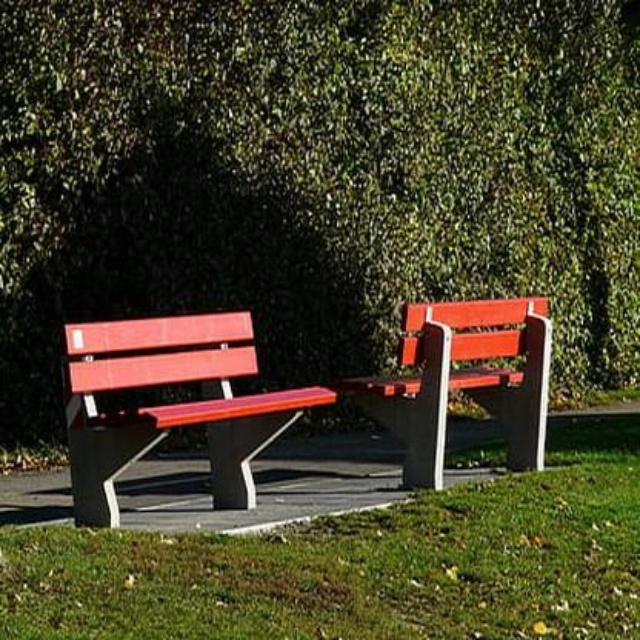obstacle: (28, 303, 320, 523), (375, 278, 594, 505)
